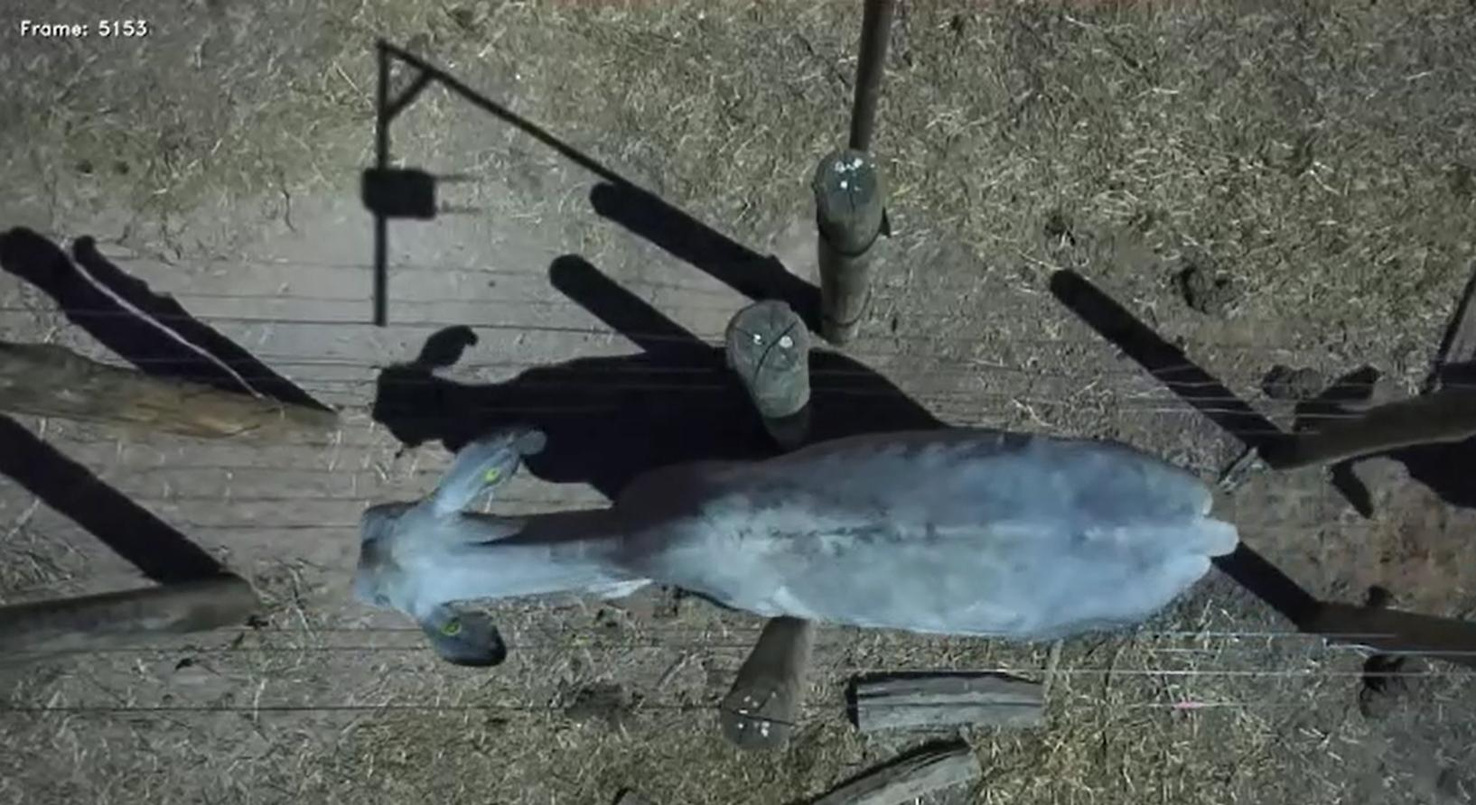cattle: (344, 406, 1246, 678)
